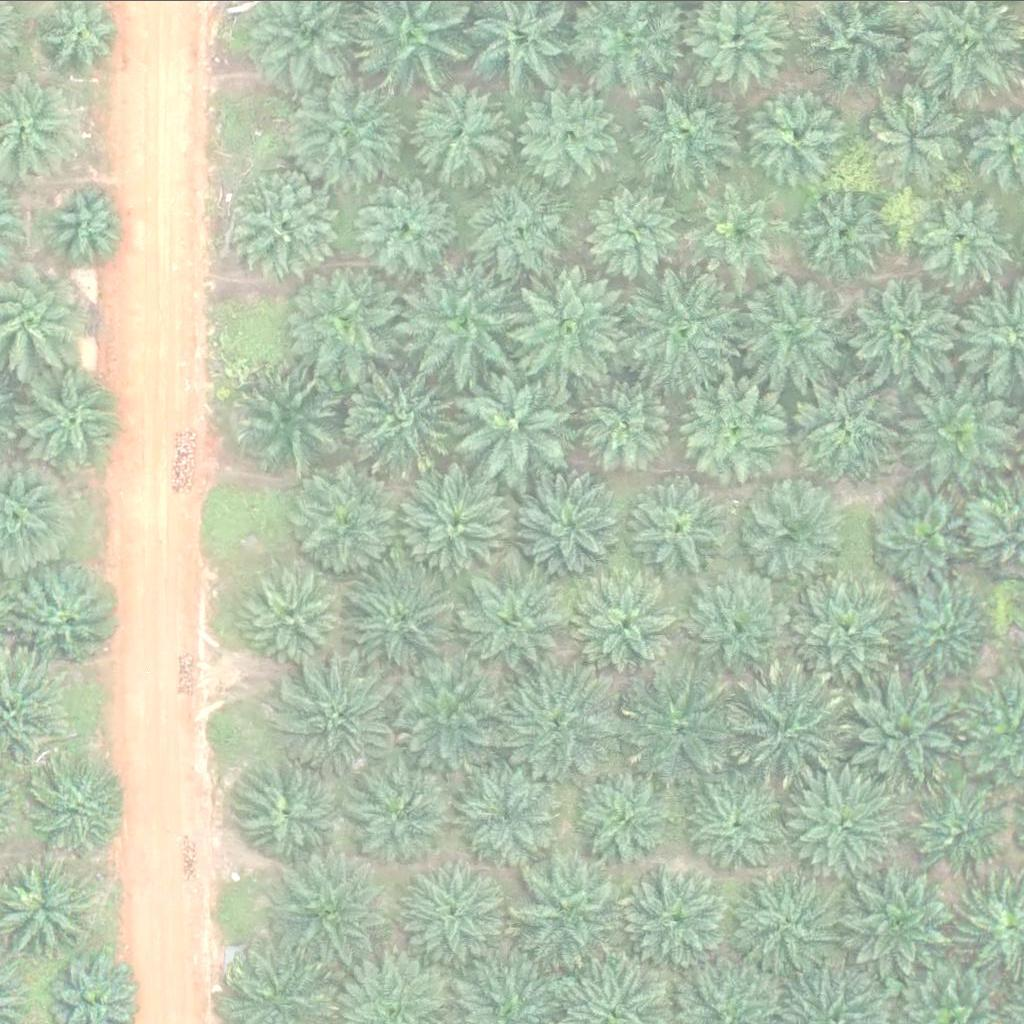Kelapa_Sawit: (511, 264, 625, 377), (455, 367, 569, 480), (460, 559, 574, 672), (853, 672, 967, 785), (621, 866, 735, 979), (626, 76, 739, 189), (233, 167, 346, 280), (294, 269, 407, 382), (902, 377, 1015, 490), (786, 370, 899, 483), (675, 378, 788, 491), (290, 466, 403, 579), (394, 465, 507, 578), (626, 472, 739, 585), (734, 477, 847, 590), (868, 480, 981, 593), (792, 579, 905, 692), (349, 568, 462, 681), (395, 654, 508, 767), (499, 674, 612, 787), (342, 756, 455, 869), (278, 863, 391, 976), (399, 862, 512, 975), (739, 869, 852, 982), (17, 364, 130, 477), (290, 71, 404, 183), (740, 270, 854, 382), (568, 562, 682, 674), (232, 759, 346, 871), (846, 867, 960, 979), (461, 177, 574, 289), (409, 267, 522, 379), (629, 271, 742, 383), (846, 274, 959, 386), (230, 358, 343, 470), (341, 365, 454, 477), (519, 472, 632, 584), (680, 569, 793, 681), (283, 661, 396, 773), (623, 668, 736, 780), (736, 667, 849, 779), (789, 766, 902, 878), (511, 848, 624, 960), (11, 562, 124, 674), (406, 81, 507, 181), (752, 81, 853, 181), (863, 85, 964, 185), (787, 178, 888, 278), (579, 184, 680, 284), (347, 179, 448, 279), (901, 578, 1002, 678), (243, 571, 344, 671), (914, 776, 1015, 876), (681, 776, 782, 876), (465, 763, 566, 863), (33, 757, 134, 857), (517, 82, 617, 182), (911, 185, 1011, 285), (686, 179, 786, 279), (575, 375, 675, 475), (580, 769, 680, 869), (44, 180, 132, 267)
